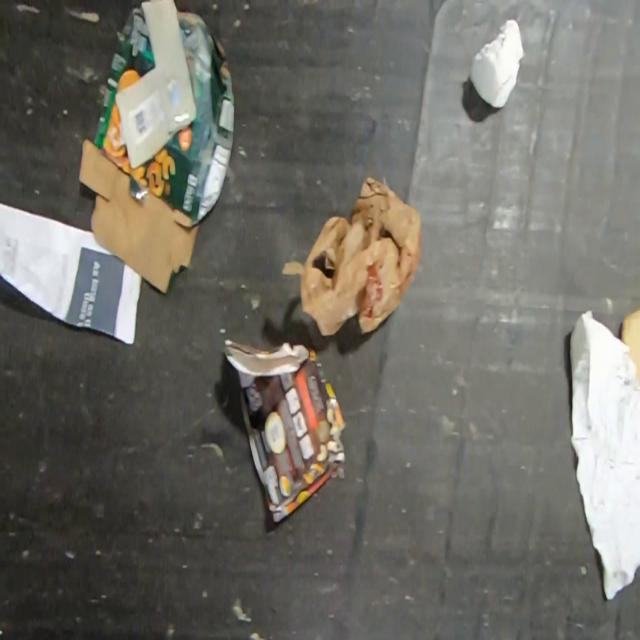cardboard: (77, 0, 236, 297), (223, 338, 348, 525), (620, 305, 639, 387)
soft_plastic: (298, 175, 422, 337)
